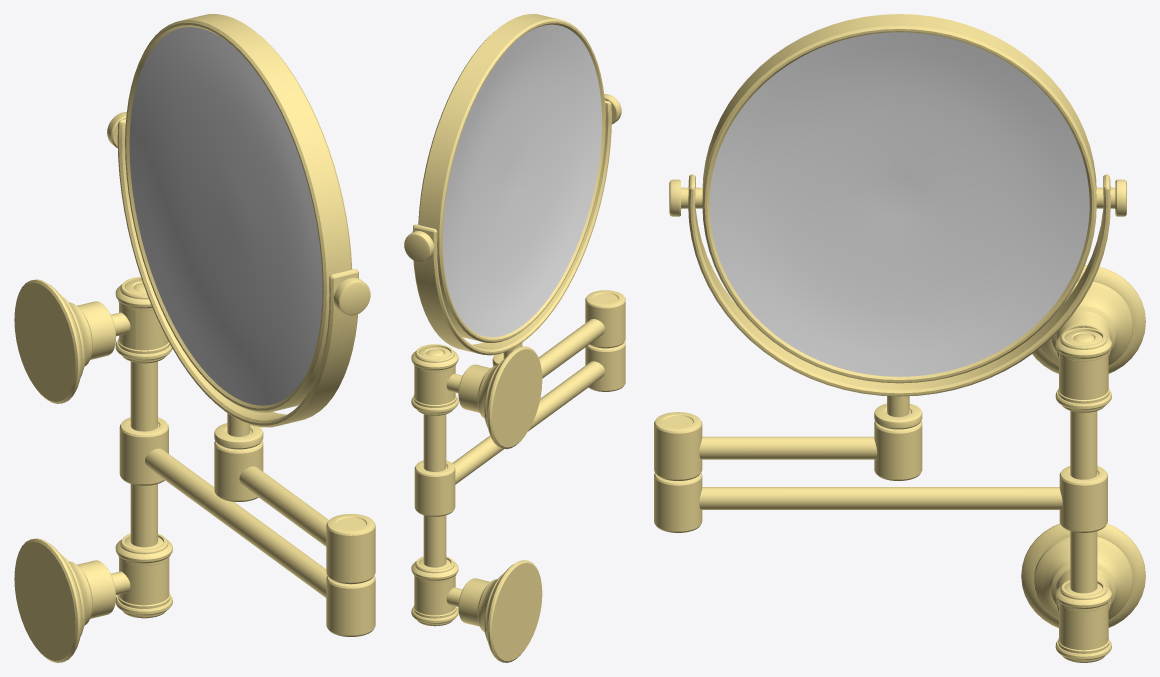
The model's file is shave_bathroom_mirror.glb.
3 views of the same model, side by side, from view 1: azimuth 30°, elevation 25°; view 2: azimuth 150°, elevation 25°; view 3: azimuth 270°, elevation 25° (orthographic). The views are drawn at different scales.
Parts seen in each view (by area): view 1: miror, Object020_02 - VRay Material_0, Object027_02 - VRay Material_0, Object026_02 - VRay Material_0, Object022_02 - VRay Material_0, Object025_02 - VRay Material_0, Object023_02 - VRay Material_0; view 2: miror, Object020_02 - VRay Material_0, Object027_02 - VRay Material_0, Object026_02 - VRay Material_0, Object022_02 - VRay Material_0, Object023_02 - VRay Material_0; view 3: miror, Object020_02 - VRay Material_0, Object027_02 - VRay Material_0, Object022_02 - VRay Material_0, Object026_02 - VRay Material_0, Object023_02 - VRay Material_0, Object025_02 - VRay Material_0.
Boxes of the visible parts, x1,y1,x2,y2 form: miror: (129, 27, 322, 405); Object020_02 - VRay Material_0: (14, 277, 172, 662); Object027_02 - VRay Material_0: (107, 14, 370, 427); Object026_02 - VRay Material_0: (326, 514, 375, 636); Object022_02 - VRay Material_0: (145, 448, 327, 597); Object025_02 - VRay Material_0: (214, 413, 263, 501); Object023_02 - VRay Material_0: (239, 466, 328, 546); miror: (442, 24, 601, 337); Object020_02 - VRay Material_0: (411, 344, 542, 662); Object027_02 - VRay Material_0: (404, 14, 621, 355); Object026_02 - VRay Material_0: (585, 290, 625, 391); Object022_02 - VRay Material_0: (452, 361, 604, 484); Object023_02 - VRay Material_0: (538, 319, 604, 378); miror: (709, 32, 1089, 376); Object020_02 - VRay Material_0: (1021, 265, 1145, 662); Object027_02 - VRay Material_0: (669, 14, 1126, 396); Object022_02 - VRay Material_0: (699, 487, 1062, 509); Object026_02 - VRay Material_0: (654, 412, 702, 532); Object023_02 - VRay Material_0: (699, 436, 877, 459); Object025_02 - VRay Material_0: (874, 396, 922, 480).
Size of the model in its own units: 0.0607 by 0.3135 by 0.212.
